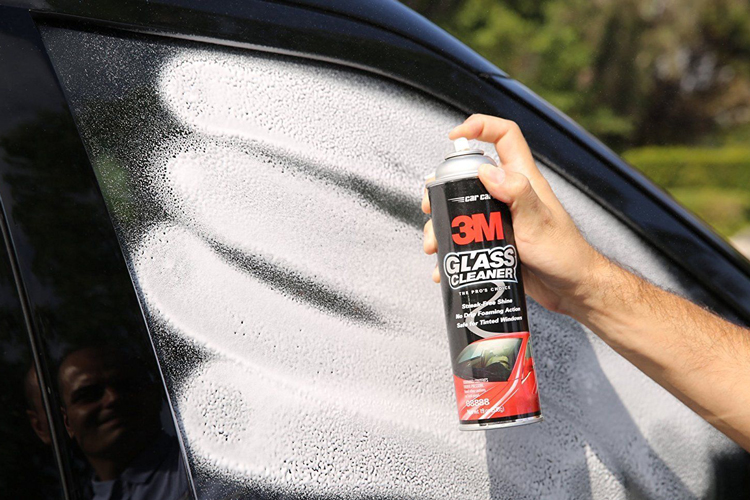3M: (443, 204, 513, 250)
